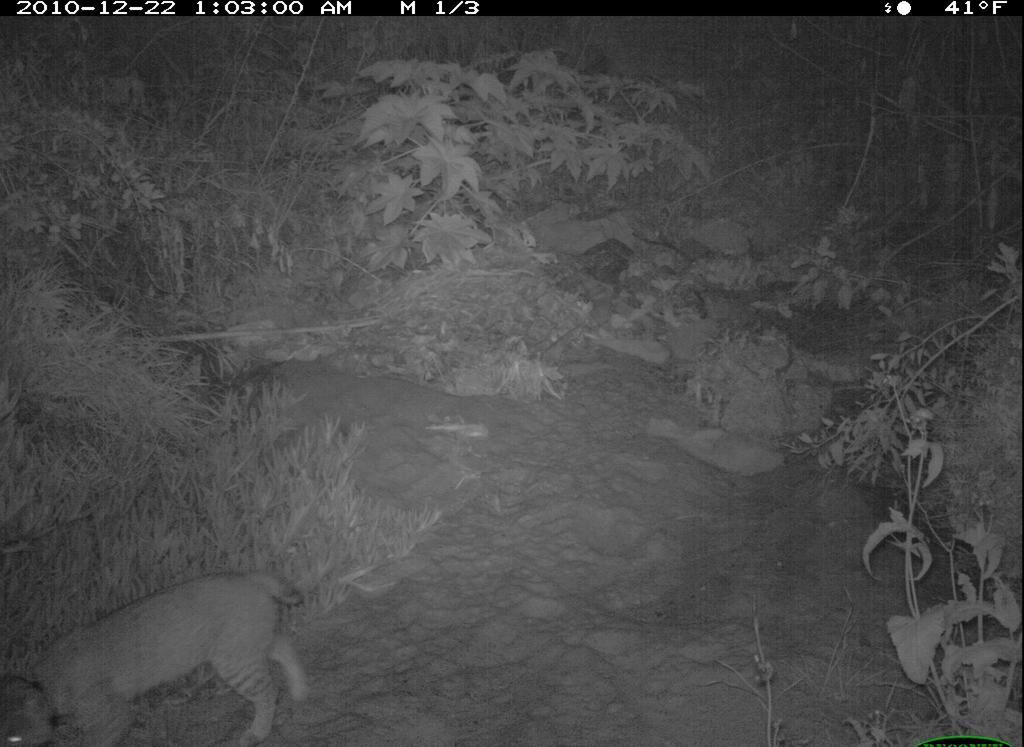bobcat: (12, 551, 321, 747)
